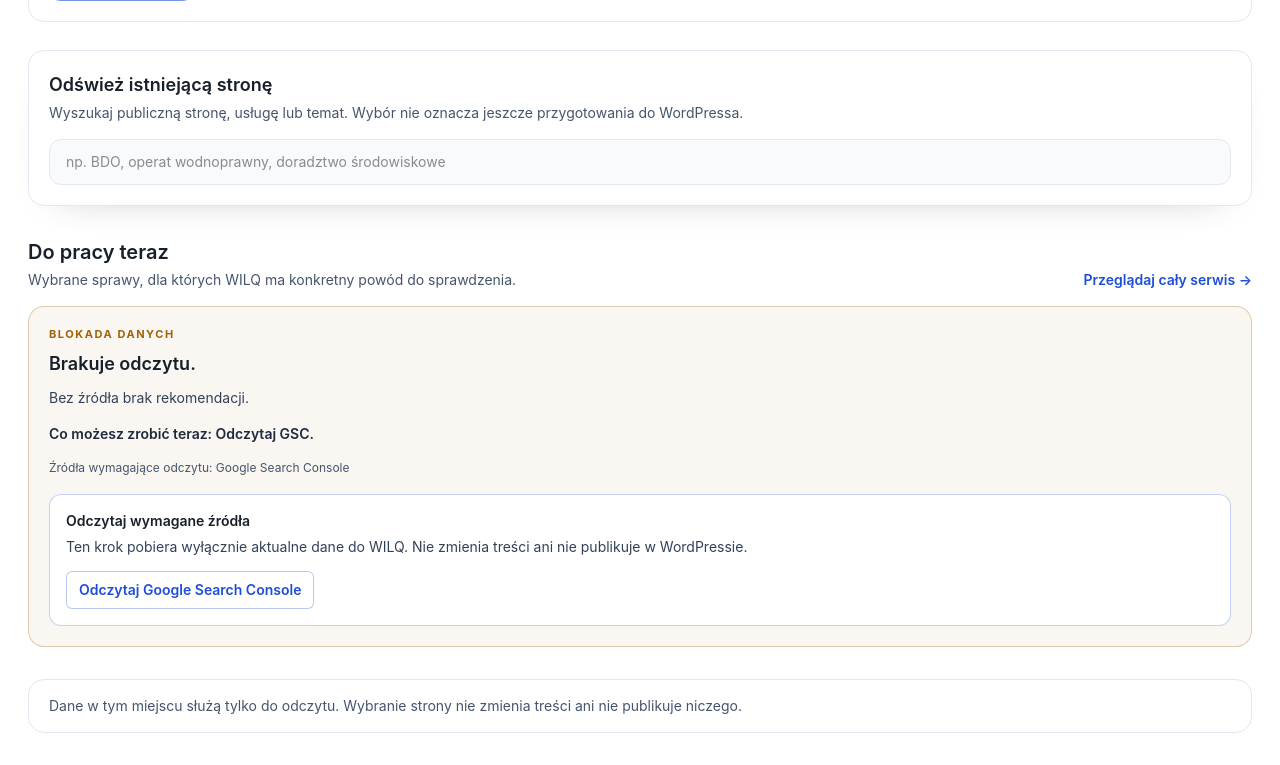
Test: ContentWorkflowEntryPanel › starts only an API-owned read for a source the freshness assessment requires
The width and height of the screenshot is (1280, 765).
(page scrolled)
Step 1. Click the button "Odczytaj Google Search Console" → point(190, 590), box [66,571,314,609]
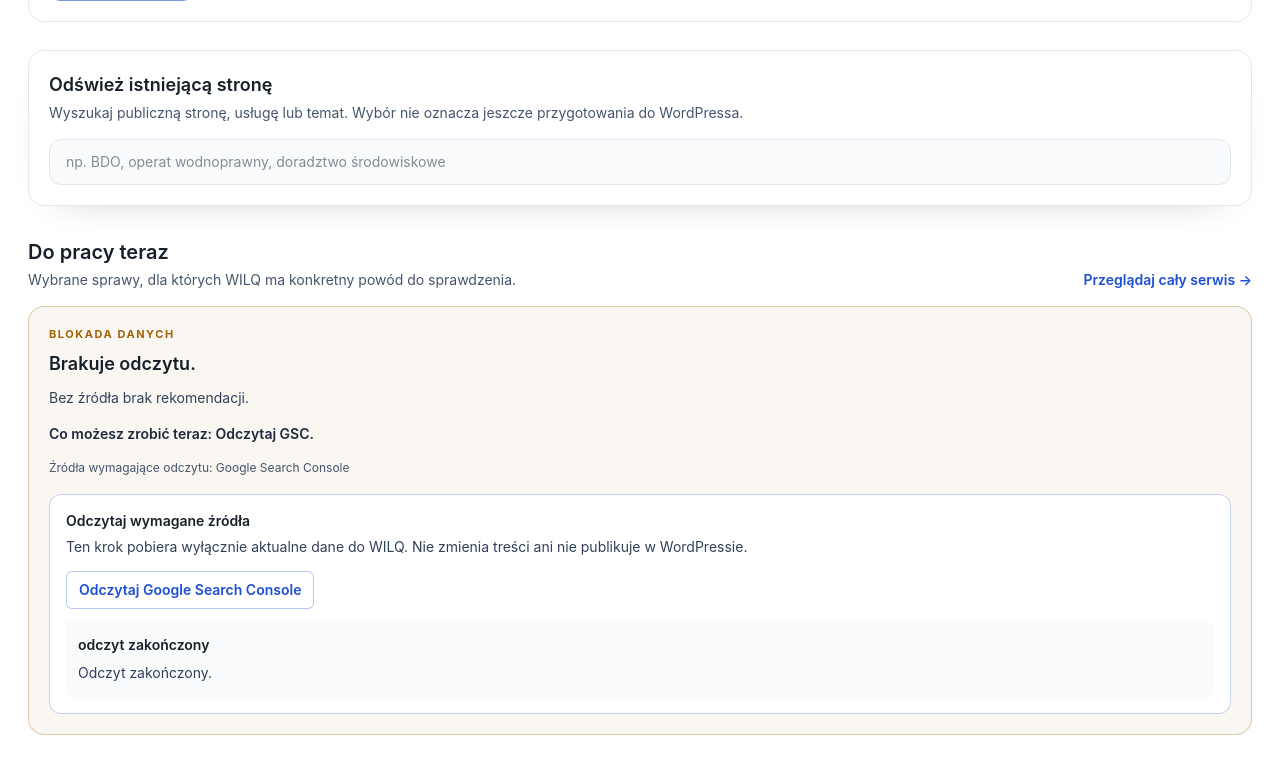
Expected: the message shows "Odczyt zakończony.", [78,664,212,681]
